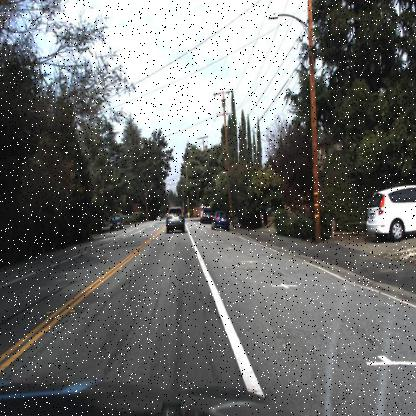car: (365, 182, 415, 244), (158, 200, 186, 236), (209, 208, 230, 235), (108, 210, 128, 237), (201, 211, 214, 229), (110, 213, 122, 232)
